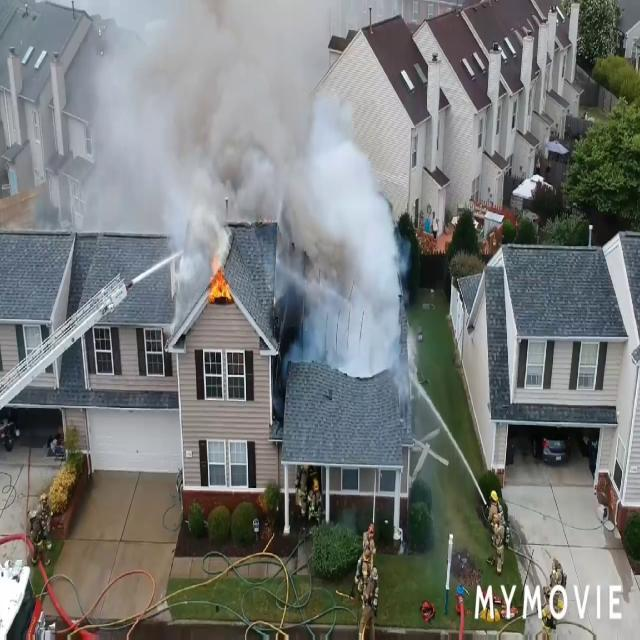Fire: (208, 262, 232, 310)
Smoke: (60, 0, 330, 263), (280, 98, 404, 376)
